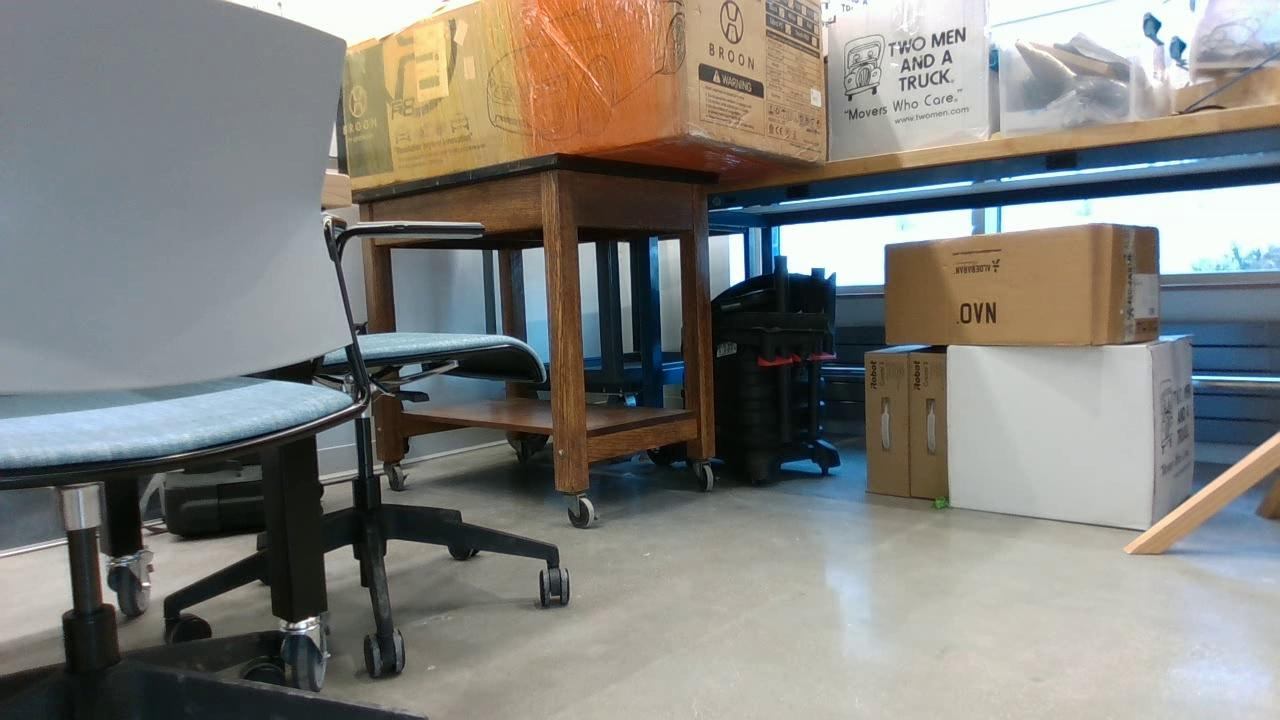grasshopper: (931, 494, 951, 511)
